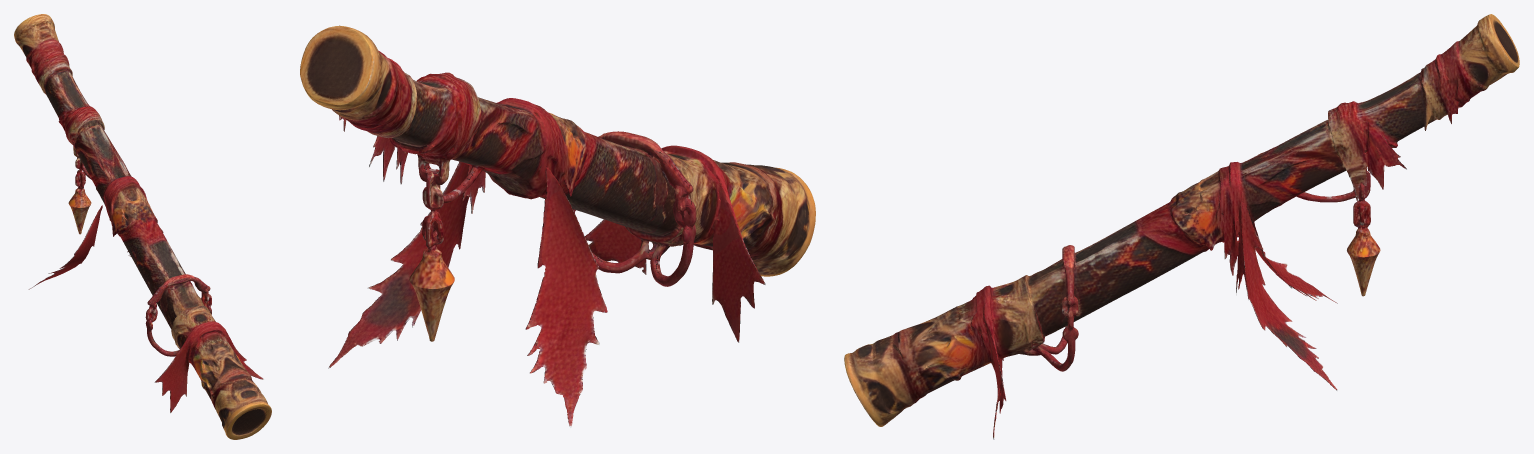
Rendered from base_basic_pbr.fbx.
3 views of the same model, side by side, from view 1: azimuth 30°, elevation 25°; view 2: azimuth 150°, elevation 25°; view 3: azimuth 270°, elevation 25° (orthographic). The views are drawn at different scales.
Visible parts, largest first — view 1: model; view 2: model; view 3: model.
Part boxes in pixels (<box>): model: <box>14,14,271,439</box>; model: <box>300,25,815,427</box>; model: <box>844,14,1519,439</box>.
Size of the model in its own units: 58.37 by 126 by 190.
Materials: 1 (1 with a texture image).
